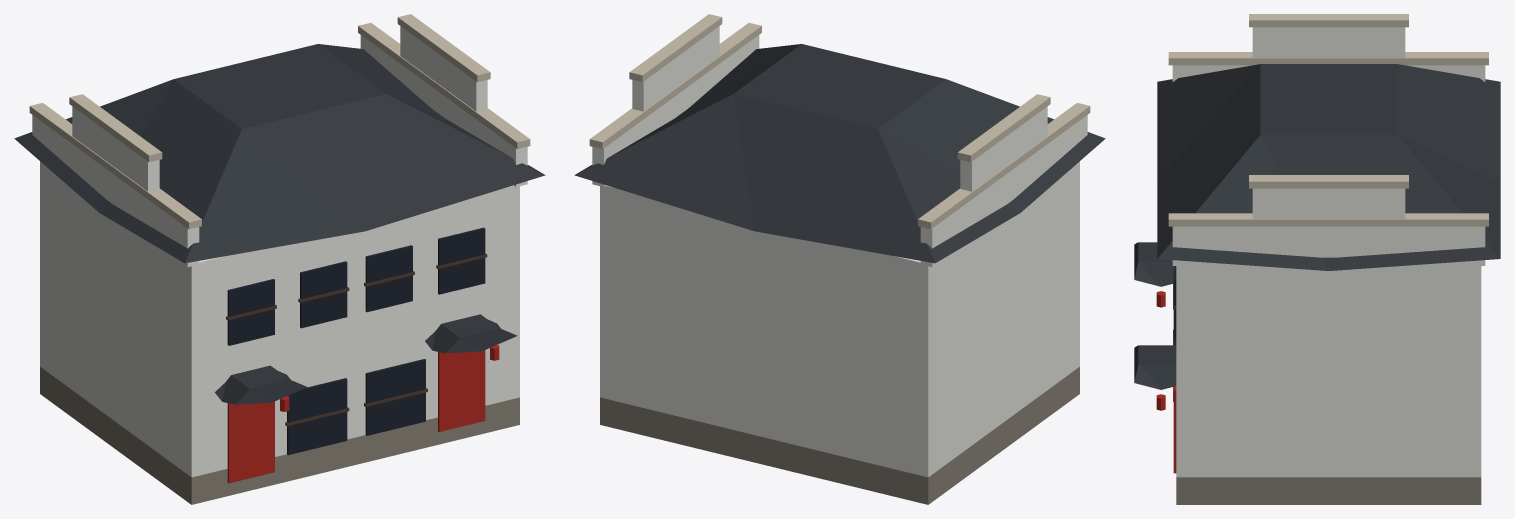
File: building_eastyork_s2_jiangnan_terrace.glb
3 renders of one model, left to right at view 1: azimuth 30°, elevation 25°; view 2: azimuth 150°, elevation 25°; view 3: azimuth 270°, elevation 25°, orthographic.
Visible parts, largest first — view 1: building_eastyork_s2_jiangnan_terrace; view 2: building_eastyork_s2_jiangnan_terrace; view 3: building_eastyork_s2_jiangnan_terrace.
Boxes of the visible parts, x1,y1,x2,y2 form: building_eastyork_s2_jiangnan_terrace: [14, 14, 545, 504]; building_eastyork_s2_jiangnan_terrace: [574, 14, 1105, 504]; building_eastyork_s2_jiangnan_terrace: [1134, 14, 1500, 504].
Size of the model in its own units: 11 by 9.45 by 9.6.
1 material, 1 textured.
